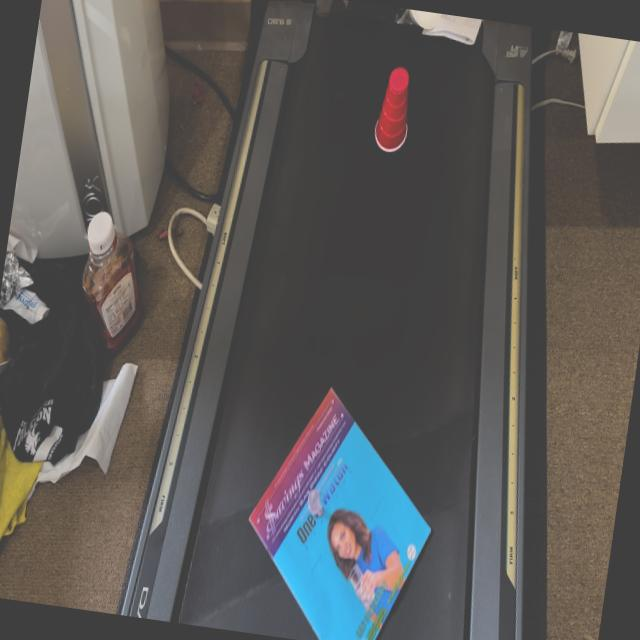Recycle: (231, 378, 448, 640), (371, 62, 417, 156), (405, 10, 484, 46)
